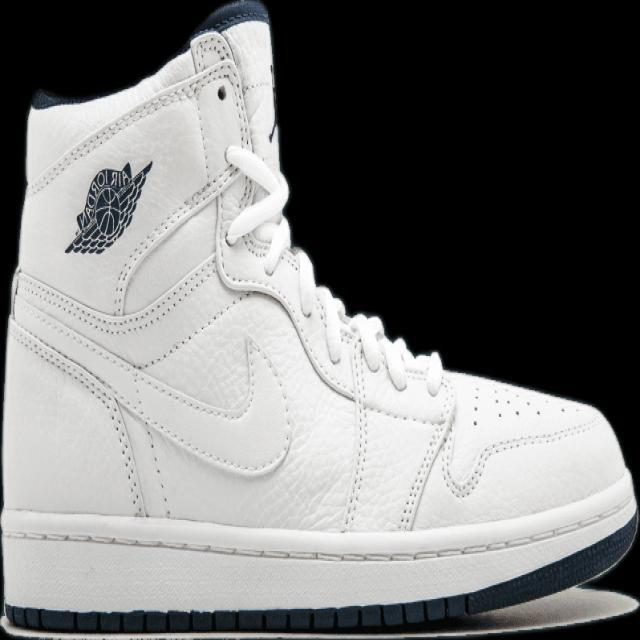J1_InsoleChar: (0, 0, 639, 637)
J1_ShoeLogo: (63, 158, 153, 255)
J1_StitchPattern: (0, 494, 637, 631), (1, 501, 636, 566), (23, 31, 253, 197), (6, 313, 168, 518), (336, 312, 453, 532), (187, 28, 291, 273), (10, 251, 218, 339), (3, 596, 460, 633), (396, 411, 454, 533), (339, 320, 372, 533)
